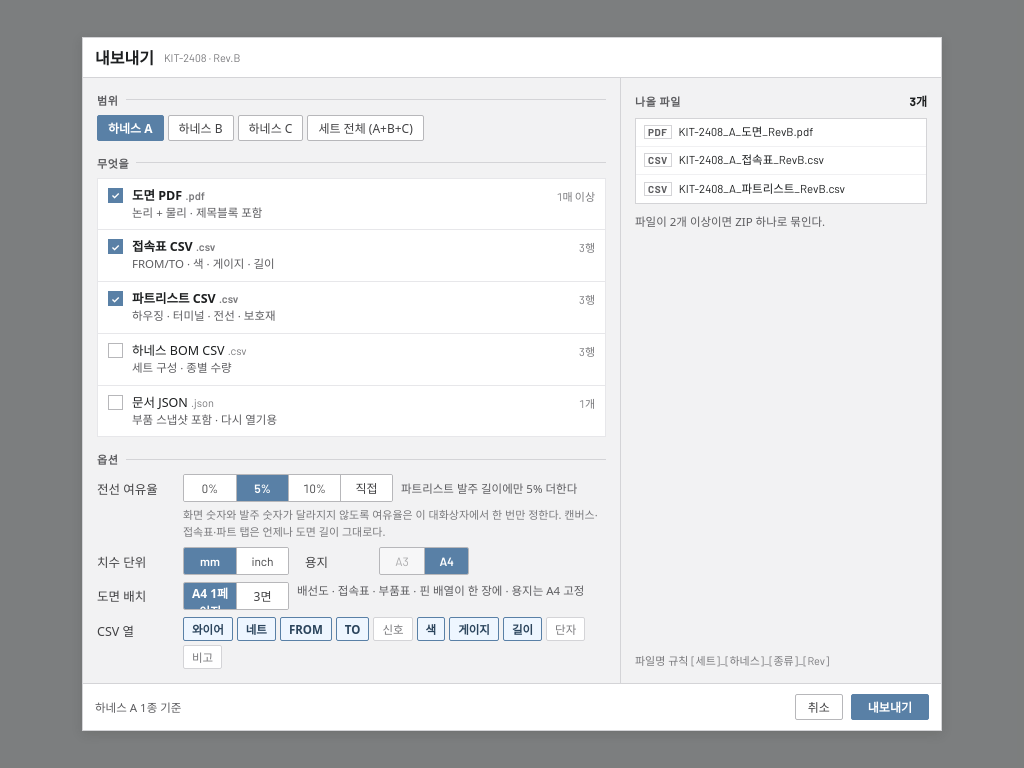
Scenario: 내보내기 대화상자 §6 › 범위를 세트 전체로 바꾸면 파일이 하네스 종 수만큼 늘어난다
Click the button "세트 전체 (A+B+C)" at (366, 128), box [307,114,424,140]
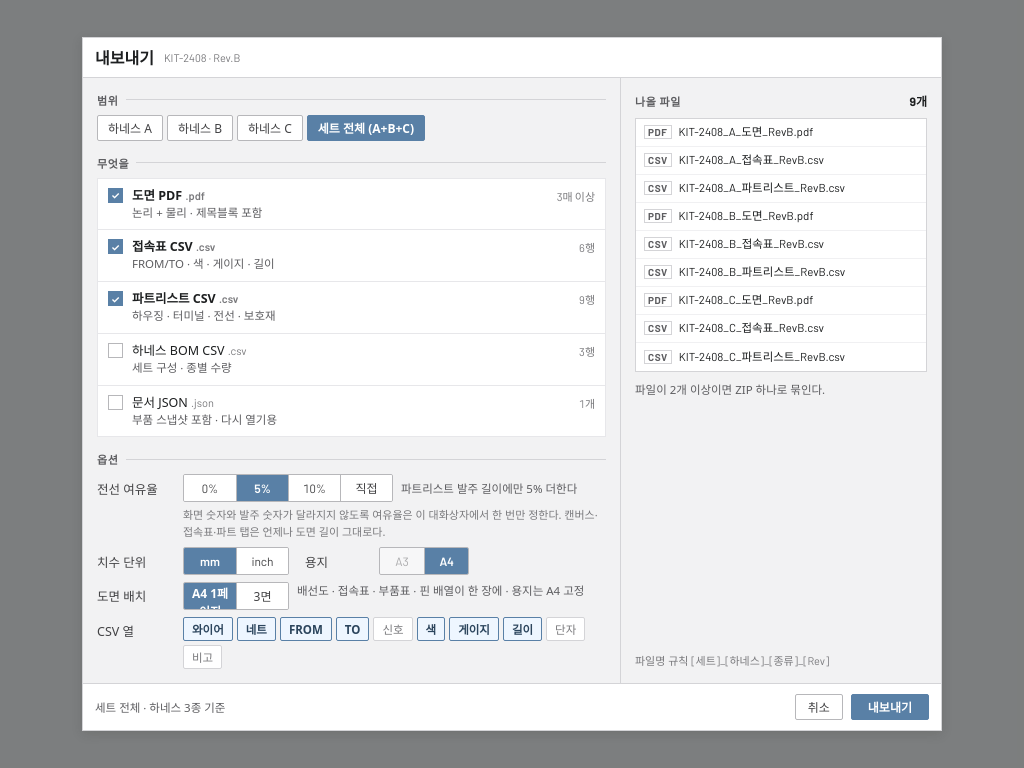
Result: the number of list items is 9
Result: the text "9개" is shown at [909,92,927,108]
Result: the text "세트 전체 · 하네스 3종 기준" is shown at [95,700,225,716]
